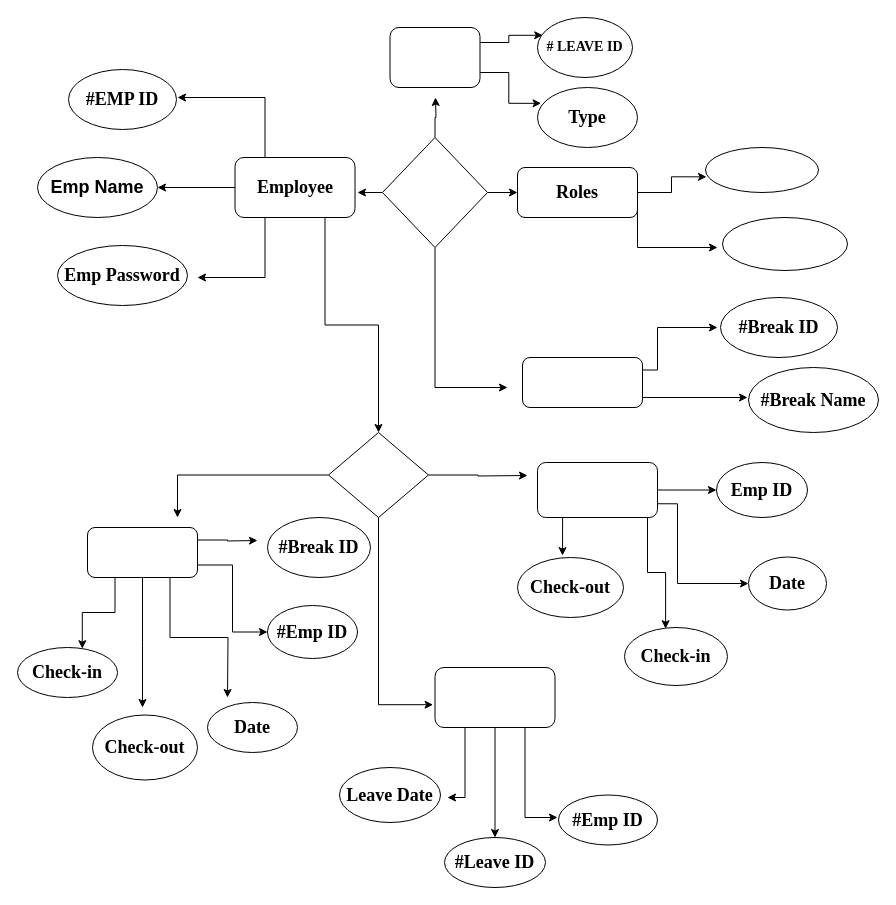
This 896x905 diagram has some shape labels left out. Each missing label, with the centre of its shape:
# Role ID: point 761,169
#Role Name: point 785,243
Attendance: point 597,490
Break: point 582,382
Break Timing: point 142,552
HAS: point 435,192
Leave: point 434,57
Manage: point 378,475
Report: point 494,697
